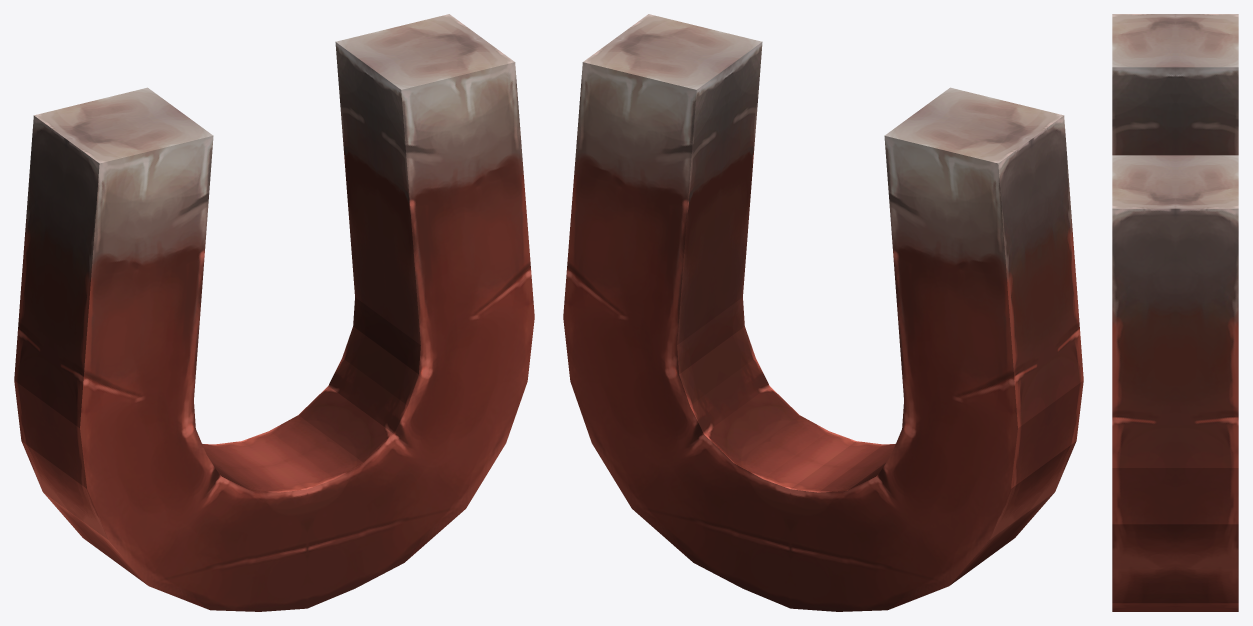
Rendered from 77_magnet.FBX.
The picture shows the model from 3 angles, left to right: view 1: azimuth 30°, elevation 25°; view 2: azimuth 150°, elevation 25°; view 3: azimuth 270°, elevation 25°; orthographic projection. The views are drawn at different scales.
Parts seen in each view (by area): view 1: Box012; view 2: Box012; view 3: Box012.
Boxes of the visible parts, x1,y1,x2,y2 form: Box012: (14,14,534,611); Box012: (563,14,1083,611); Box012: (1112,14,1238,611).
Size of the model in its own units: 41.48 by 43.21 by 10.39.
